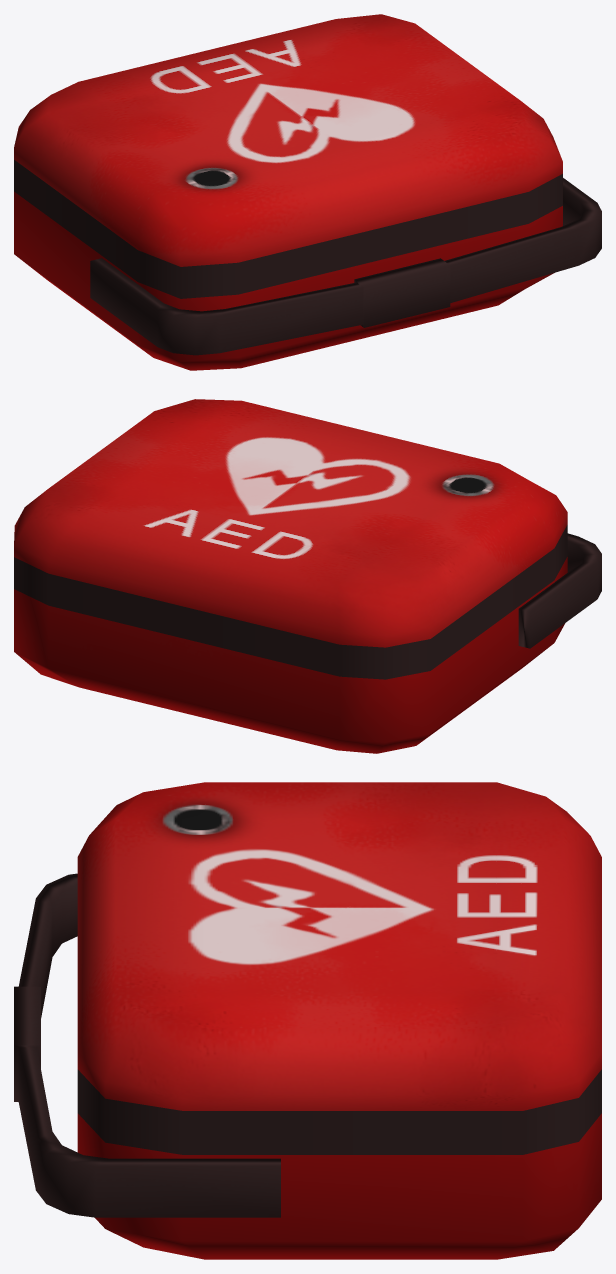
File: BgMD_AED_0101.fbx
3 renders of one model, top to bottom at view 1: azimuth 30°, elevation 25°; view 2: azimuth 150°, elevation 25°; view 3: azimuth 270°, elevation 25°, orthographic. The views are drawn at different scales.
Visible parts, largest first — view 1: pCube3; view 2: pCube3; view 3: pCube3.
Part boxes in pixels (x1,y1,x2,y2): pCube3: (14,14,601,370); pCube3: (14,399,601,753); pCube3: (14,782,601,1259).
Size of the model in its own units: 39.98 by 14.54 by 33.6.
